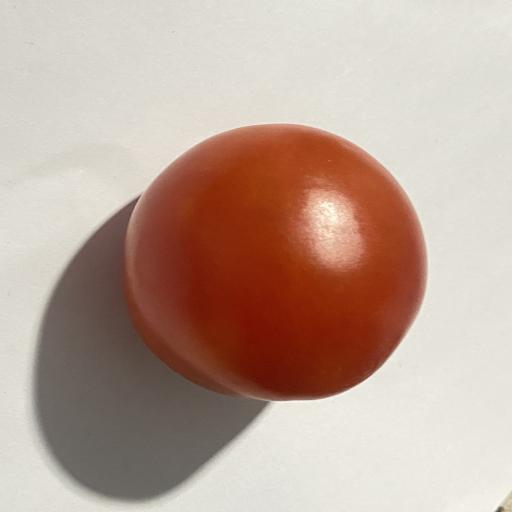ripe: (124, 124, 426, 400)
